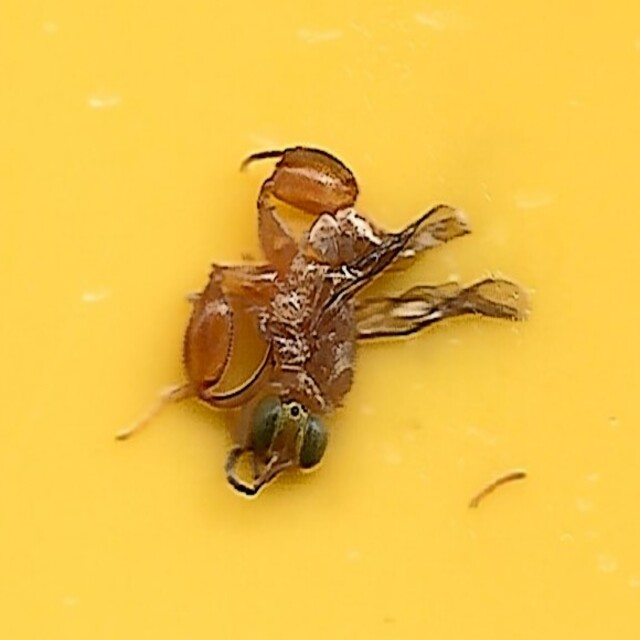Hymenoptera: (110, 145, 530, 495)
